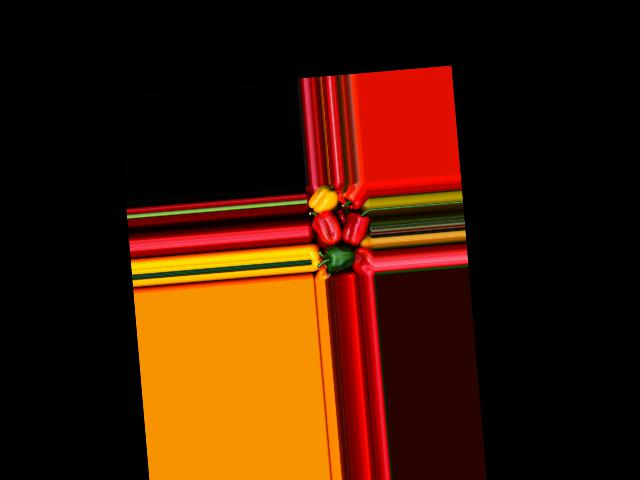bell_pepper: (305, 184, 342, 216)
